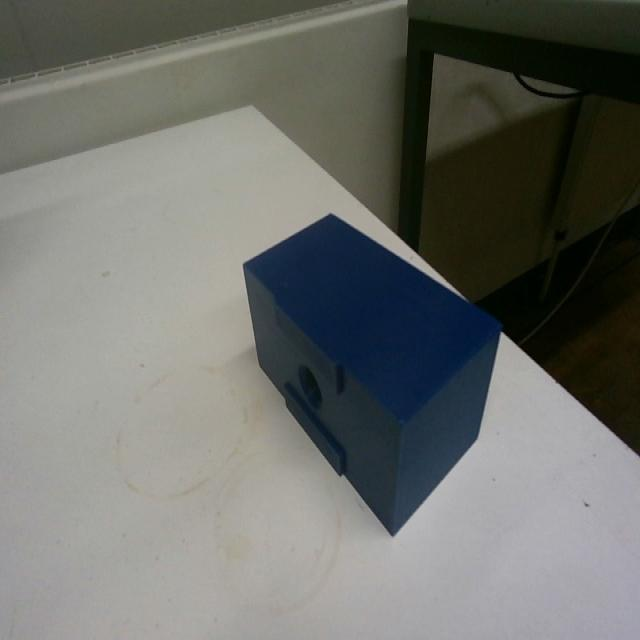Blue Cuboid: (239, 208, 503, 536)
